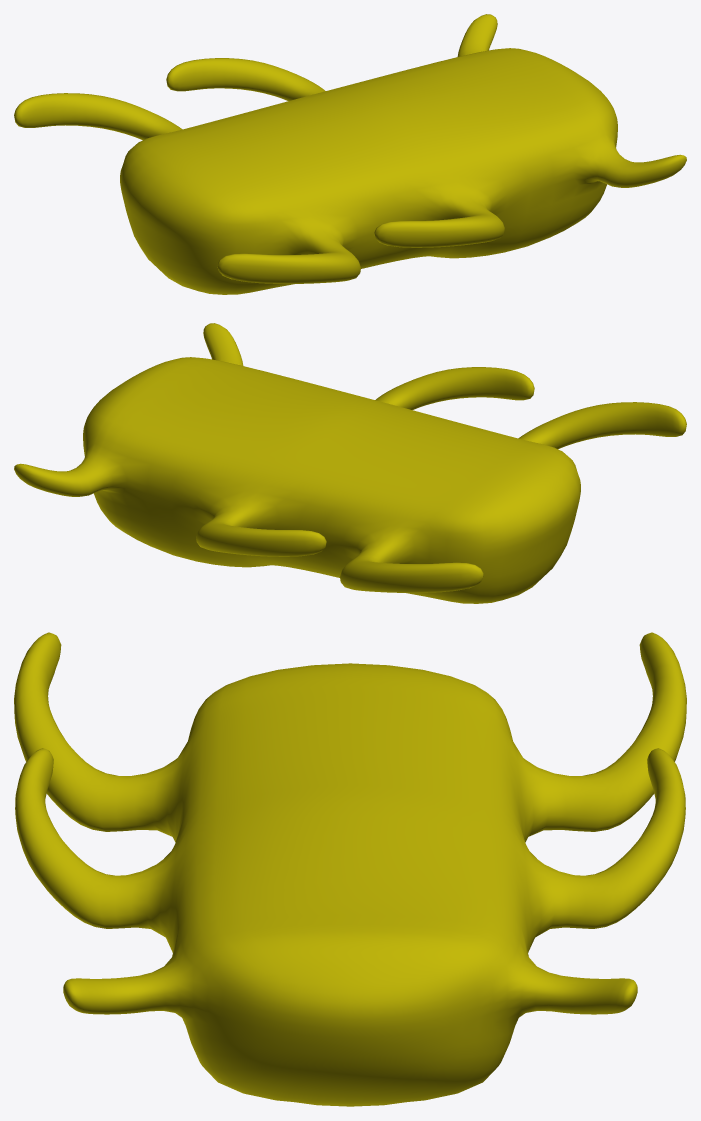
The model's file is zaproach.fbx.
3 views of the same model, one above another, from view 1: azimuth 30°, elevation 25°; view 2: azimuth 150°, elevation 25°; view 3: azimuth 270°, elevation 25° (orthographic). The views are drawn at different scales.
Parts seen in each view (by area): view 1: pCube3; view 2: pCube3; view 3: pCube3.
Part boxes in pixels (x1,y1,x2,y2): pCube3: [14, 14, 686, 294]; pCube3: [14, 323, 686, 603]; pCube3: [14, 632, 686, 1106].
Size of the model in its own units: 2.35 by 0.7074 by 1.94.
